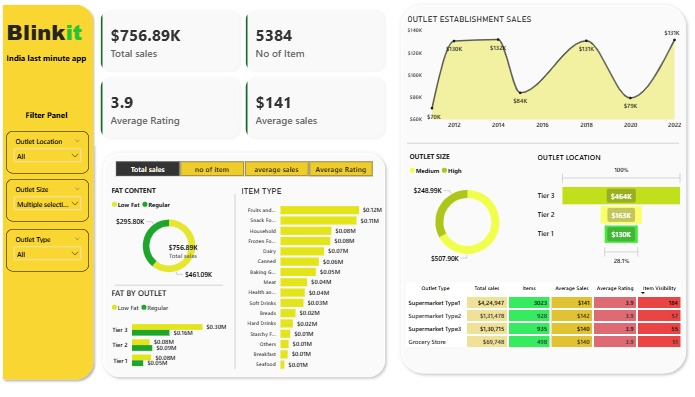

This screenshot's page, from the dashboard's own definition file:
{"tool":"powerbi","page":{"name":"Page 1","canvas":[1400,800],"ordinal":0},"visuals":[{"type":"shape","box":[1.7,0,200,768.3],"z":0},{"type":"textbox","box":[13.3,28.3,176.7,71.7],"z":1000},{"type":"cardVisual","fields":{"Data":["BlinkIT Grocery Data.Total sales","BlinkIT Grocery Data.no of item","BlinkIT Grocery Data.Average Rating","BlinkIT Grocery Data.average sales"]},"box":[190,2,606,294],"z":2000},{"type":"shape","box":[202,296,584,468],"z":3000},{"type":"slicer","fields":{"Values":["METRICS.METRICS"]},"box":[211.1,315.6,563.3,40],"z":4000},{"type":"donutChart","title":"FAT CONTENT","fields":{"Y":["BlinkIT Grocery Data.Total sales"],"Category":["BlinkIT Grocery Data.Item Fat Content"]},"box":[224.4,372.2,240,194.4],"z":5000},{"type":"cardVisual","fields":{"Data":["BlinkIT Grocery Data.Total sales"]},"box":[301,465,140,70],"z":6000},{"type":"clusteredBarChart","title":"FAT BY OUTLET","fields":{"Y":["BlinkIT Grocery Data.Total sales"],"Category":["BlinkIT Grocery Data.Outlet Location Type"],"Series":["BlinkIT Grocery Data.Item Fat Content"]},"box":[224.4,573.3,240,176.7],"z":7000},{"type":"barChart","title":"ITEM TYPE","fields":{"Y":["BlinkIT Grocery Data.Total sales"],"Category":["BlinkIT Grocery Data.Item Type"]},"box":[483.3,371.1,291.1,378.9],"z":8000},{"type":"shape","box":[797.5,0,590,756.2],"z":9000},{"type":"lineChart","title":"OUTLET ESTABLISHMENT SALES","fields":{"Y":["BlinkIT Grocery Data.Total sales"],"Category":["BlinkIT Grocery Data.Outlet Establishment Year"]},"box":[816,28,558,240],"z":10000},{"type":"donutChart","title":"OUTLET SIZE","fields":{"Category":["BlinkIT Grocery Data.Outlet Size"],"Y":["BlinkIT Grocery Data.Total sales"]},"box":[820,303.3,241.7,235],"z":11000},{"type":"funnel","title":"OUTLET LOCATION","fields":{"Y":["BlinkIT Grocery Data.Total sales"],"Category":["BlinkIT Grocery Data.Outlet Location Type"]},"box":[1075,303.3,300,231.7],"z":12000},{"type":"shape","box":[236.7,561.1,215.6,16.7],"z":13000},{"type":"shape","box":[466.7,387.8,20,350],"z":14000},{"type":"shape","box":[820,270,544.3,32.9],"z":15000},{"type":"tableEx","fields":{"Values":["BlinkIT Grocery Data.Outlet Type","BlinkIT Grocery Data.Total sales","BlinkIT Grocery Data.No Of Item","BlinkIT Grocery Data.Average Sales","BlinkIT Grocery Data.Average Rating","Sum(BlinkIT Grocery Data.Item Visibility)"]},"box":[811.4,560,567.1,177.1],"z":16000},{"type":"textbox","box":[13.3,100,176.7,41.7],"z":17000},{"type":"textbox","box":[51.7,213.3,100,41.7],"z":18000},{"type":"slicer","fields":{"Values":["BlinkIT Grocery Data.Outlet Location Type"]},"box":[17.5,261.2,166.2,85],"z":19000},{"type":"slicer","fields":{"Values":["BlinkIT Grocery Data.Outlet Size"]},"box":[17.5,357.5,166.2,85],"z":20000},{"type":"slicer","fields":{"Values":["BlinkIT Grocery Data.Outlet Type"]},"box":[17.5,457.5,166.2,85],"z":21000}]}

Visuals, with their boxes in screenshot pixels (x1, y1, x2, y2), scaled from the page's 1400x800 canvas onto the 695x397 screenshot:
shape: <box>1,0,100,381</box>
textbox: <box>7,14,94,50</box>
cardVisual - BlinkIT Grocery Data.Total sales x BlinkIT Grocery Data.no of item: <box>94,1,395,147</box>
shape: <box>100,147,390,379</box>
slicer - METRICS.METRICS: <box>105,157,384,176</box>
"FAT CONTENT" donutChart: <box>111,185,231,281</box>
cardVisual - BlinkIT Grocery Data.Total sales: <box>149,231,219,265</box>
"FAT BY OUTLET" clusteredBarChart: <box>111,285,231,372</box>
"ITEM TYPE" barChart: <box>240,184,384,372</box>
shape: <box>396,0,689,375</box>
"OUTLET ESTABLISHMENT SALES" lineChart: <box>405,14,682,133</box>
"OUTLET SIZE" donutChart: <box>407,151,527,267</box>
"OUTLET LOCATION" funnel: <box>534,151,683,265</box>
shape: <box>118,278,225,287</box>
shape: <box>232,192,242,366</box>
shape: <box>407,134,677,150</box>
tableEx - BlinkIT Grocery Data.Outlet Type x BlinkIT Grocery Data.Total sales: <box>403,278,684,366</box>
textbox: <box>7,50,94,70</box>
textbox: <box>26,106,75,127</box>
slicer - BlinkIT Grocery Data.Outlet Location Type: <box>9,130,91,172</box>
slicer - BlinkIT Grocery Data.Outlet Size: <box>9,177,91,220</box>
slicer - BlinkIT Grocery Data.Outlet Type: <box>9,227,91,269</box>
